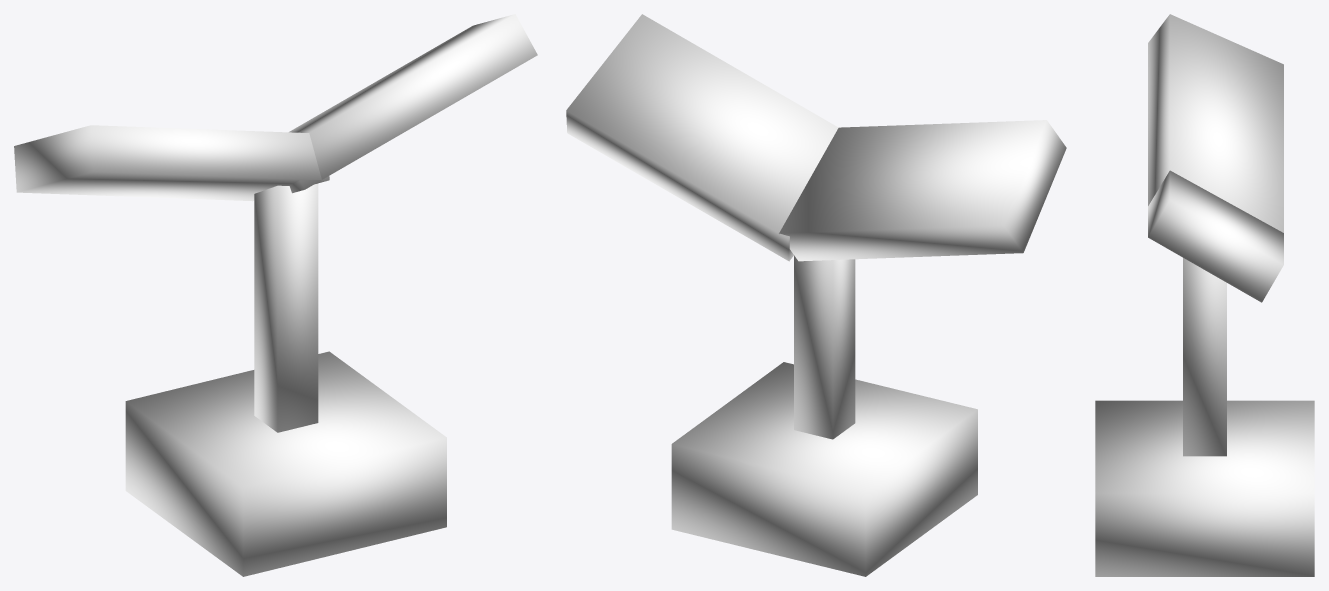
The model's file is bookstand.obj.
3 views of the same model, side by side, from view 1: azimuth 30°, elevation 25°; view 2: azimuth 150°, elevation 25°; view 3: azimuth 270°, elevation 25° (orthographic). The views are drawn at different scales.
Visible parts, largest first — view 1: base, rightarm, post, leftarm; view 2: base, leftarm, rightarm, post; view 3: base, rightarm, leftarm, post.
Boxes of the visible parts, x1,y1,x2,y2 form: base: (125, 351, 446, 576); rightarm: (14, 125, 329, 201); post: (254, 183, 318, 432); leftarm: (289, 14, 537, 193); base: (671, 362, 977, 576); leftarm: (566, 14, 838, 261); rightarm: (779, 120, 1066, 261); post: (794, 255, 855, 439); base: (1095, 400, 1314, 576); rightarm: (1148, 14, 1283, 232); leftarm: (1148, 170, 1283, 302); post: (1183, 258, 1226, 456).
Bounding box in the file's own units: 0.7345 × 0.6707 × 0.3125.
